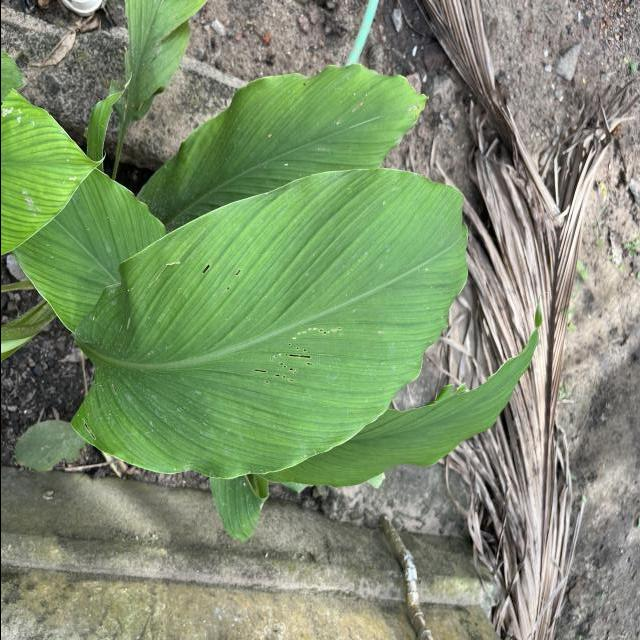Curcuma longa: (62, 160, 480, 486), (129, 61, 432, 239)
